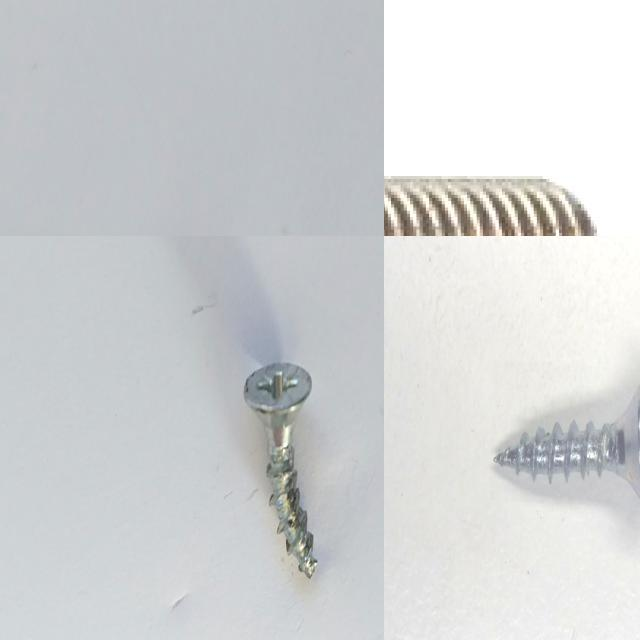Screw: (494, 384, 640, 498), (244, 363, 317, 578)
